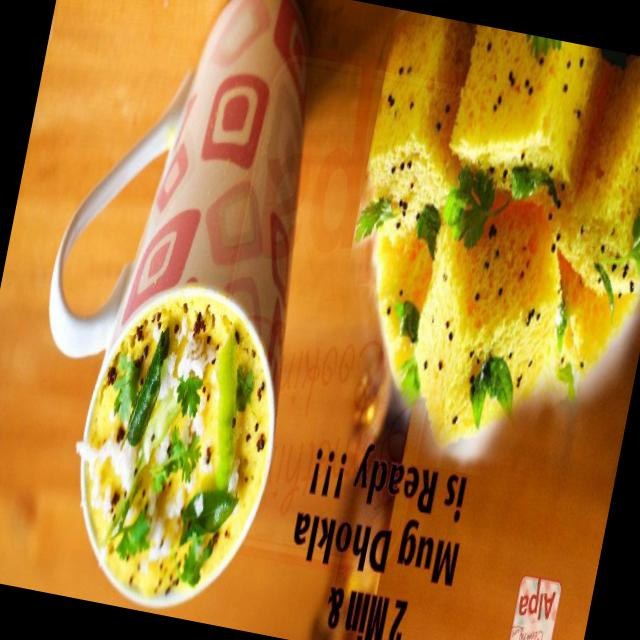dhokla: (308, 12, 640, 451), (56, 286, 297, 620)
